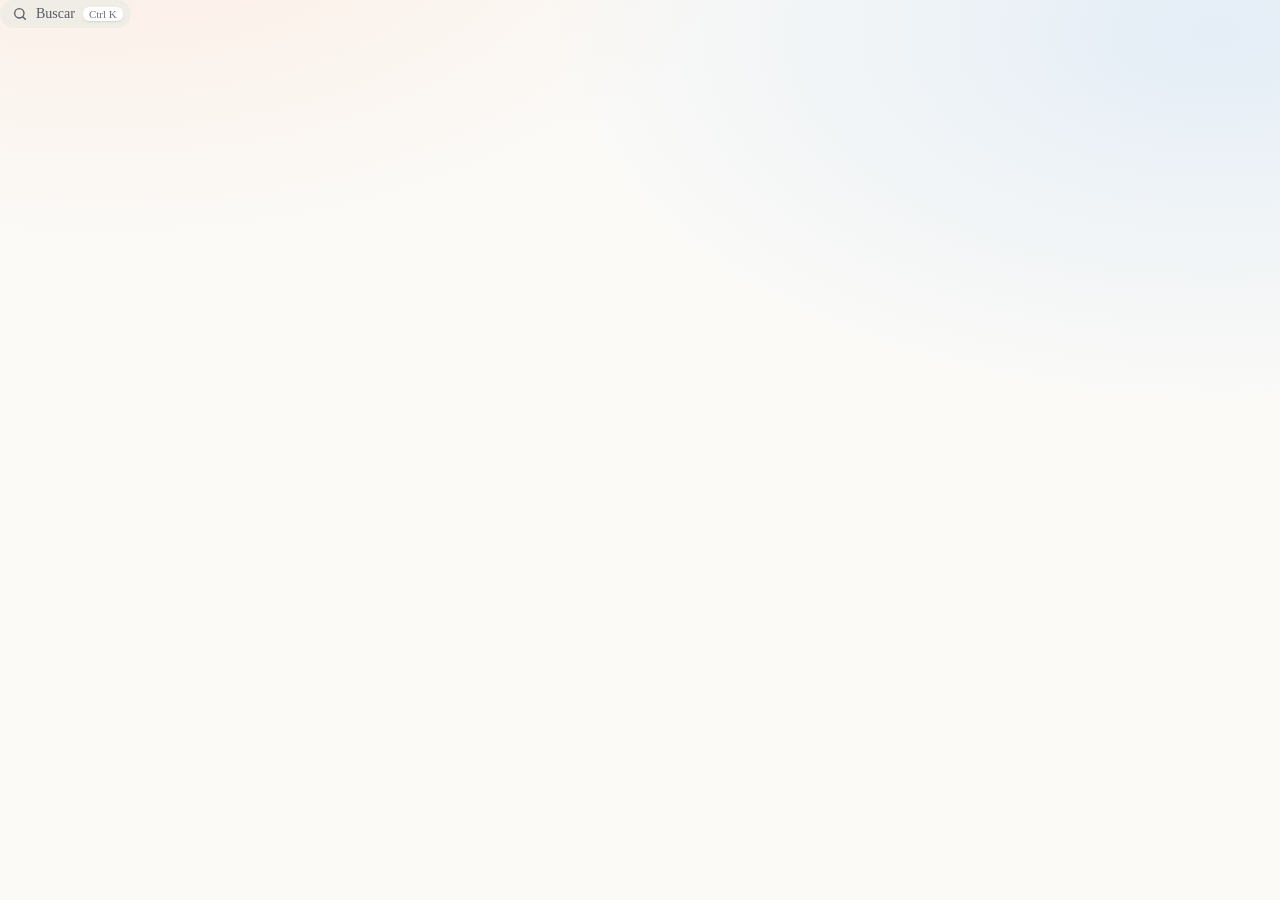
Test: SearchCommand › opens from its button with every page listed
This screenshot has width=1280, height=900.
Click the button "Buscar Ctrl K" at (65,14), box 0,0 -> 131,28
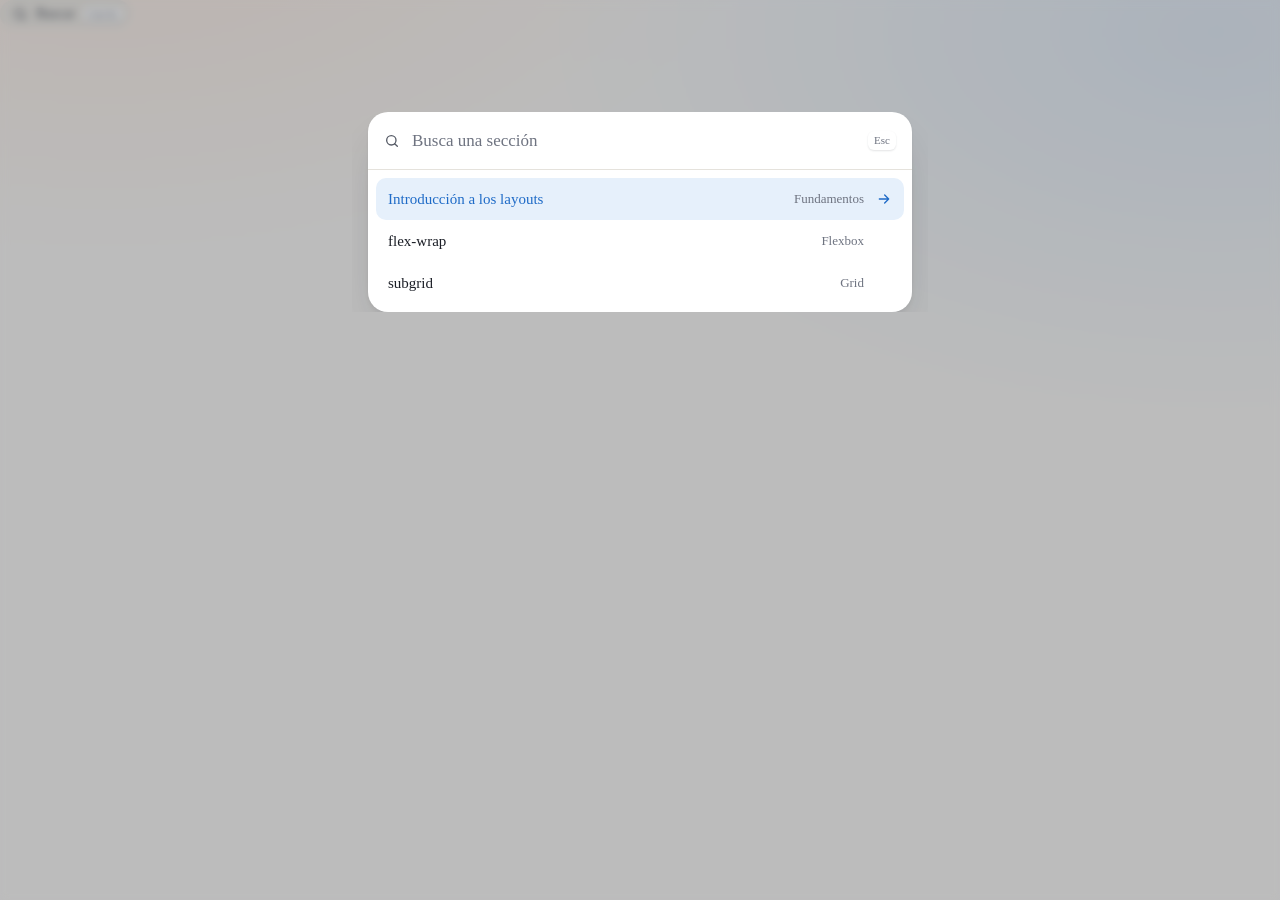
Now the number of options is 3, box 376,178 -> 904,220; 388,233 -> 864,249; 388,275 -> 864,291
